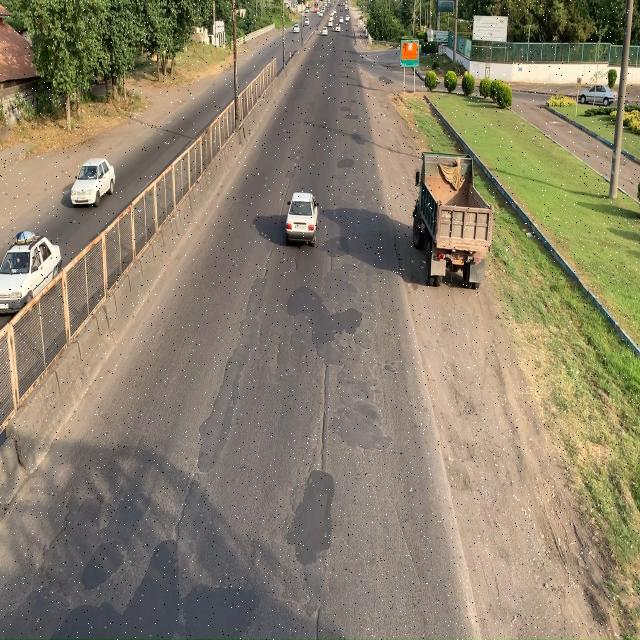Truck: (411, 150, 494, 290)
cars: (0, 240, 61, 314), (70, 161, 114, 206), (285, 193, 317, 240)
